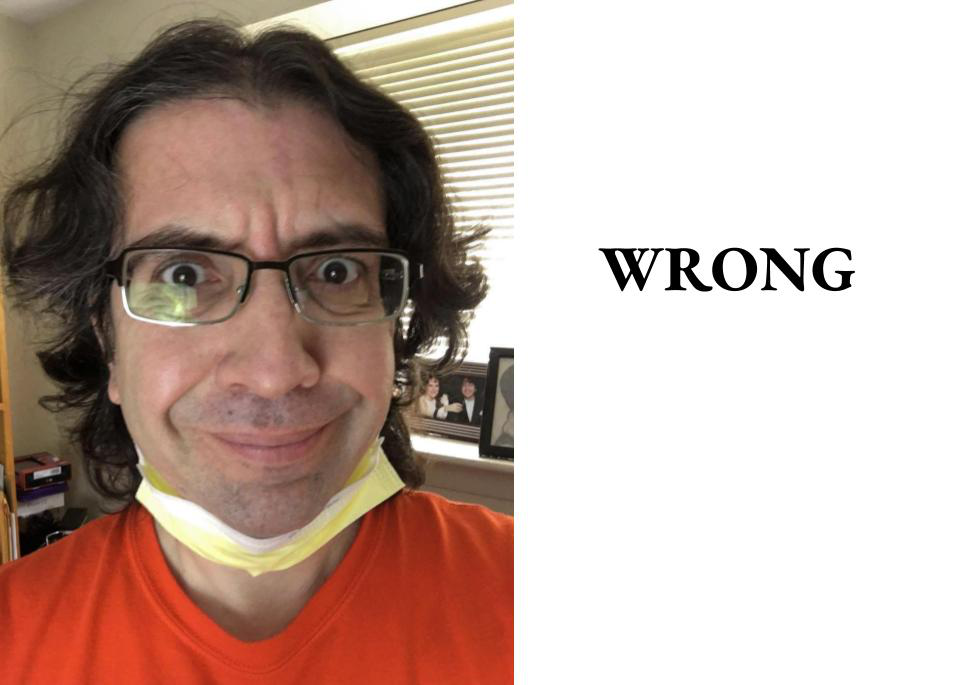mask_weared_incorrect: (80, 172, 413, 582)
